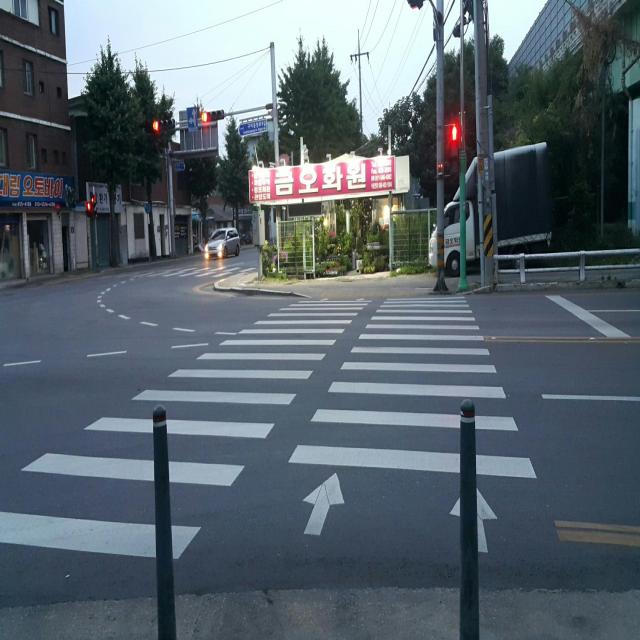빨간불: (447, 123, 462, 178)
횡단보도: (0, 293, 539, 563)
